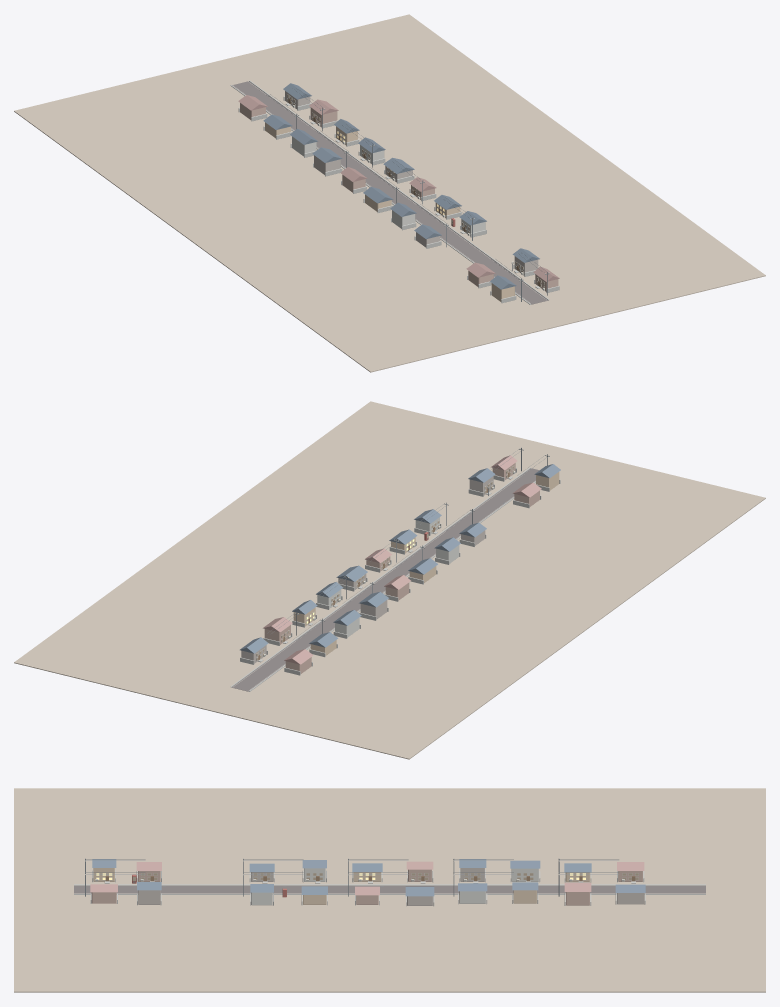
The model's file is residential_morning_road.glb.
3 views of the same model, one above another, from view 1: azimuth 30°, elevation 25°; view 2: azimuth 150°, elevation 25°; view 3: azimuth 270°, elevation 25° (orthographic). The views are drawn at different scales.
Visible parts, largest first — view 1: Static.Pavement, Static.Asphalt, Static.Roof, Static.Concrete, Static.Roof.pink, Static.Wall.peach, Static.Wall.silver, Static.Wall.cream, Static.Wall.ivory, Static.Steel; view 2: Static.Pavement, Static.Asphalt, Static.Roof, Static.Concrete, Static.Roof.pink, Static.Wall.peach, Static.Wall.silver, Static.Wall.cream, Static.Wall.ivory, Static.Steel; view 3: Static.Pavement, Static.Roof, Static.Asphalt, Static.Concrete, Static.Roof.pink, Static.Wall.peach, Static.Steel, Static.Wall.silver, Static.Wall.cream, Static.Wall.ivory, Static.Line, Static.Frame (+1 smaller).
Boxes of the visible parts, x1,y1,x2,y2 form: Static.Pavement: (14, 14, 765, 372); Static.Asphalt: (232, 81, 547, 304); Static.Roof: (263, 83, 539, 289); Static.Concrete: (230, 80, 559, 304); Static.Roof.pink: (238, 95, 559, 281); Static.Wall.peach: (240, 103, 558, 291); Static.Wall.silver: (285, 91, 538, 275); Static.Wall.cream: (265, 122, 514, 301); Static.Wall.ivory: (292, 136, 485, 236); Static.Steel: (267, 88, 549, 301); Static.Pavement: (14, 401, 765, 759); Static.Asphalt: (232, 468, 539, 691); Static.Roof: (240, 464, 560, 653); Static.Concrete: (230, 467, 560, 691); Static.Roof.pink: (263, 455, 541, 664); Static.Wall.peach: (264, 463, 539, 673); Static.Wall.silver: (241, 476, 493, 663); Static.Wall.cream: (293, 472, 559, 655); Static.Wall.ivory: (317, 517, 459, 637); Static.Steel: (265, 447, 549, 655); Static.Pavement: (14, 788, 765, 992); Static.Roof: (92, 859, 645, 896); Static.Asphalt: (74, 885, 705, 893); Static.Concrete: (74, 869, 705, 906); Static.Roof.pink: (90, 861, 644, 895); Static.Wall.peach: (91, 869, 642, 905); Static.Steel: (85, 858, 623, 896); Static.Wall.silver: (138, 868, 644, 905); Static.Wall.cream: (93, 868, 590, 904); Static.Wall.ivory: (251, 868, 538, 905); Static.Line: (74, 885, 705, 893); Static.Frame: (85, 859, 638, 881).
Size of the model in its own units: 64 by 3.73 by 100.
